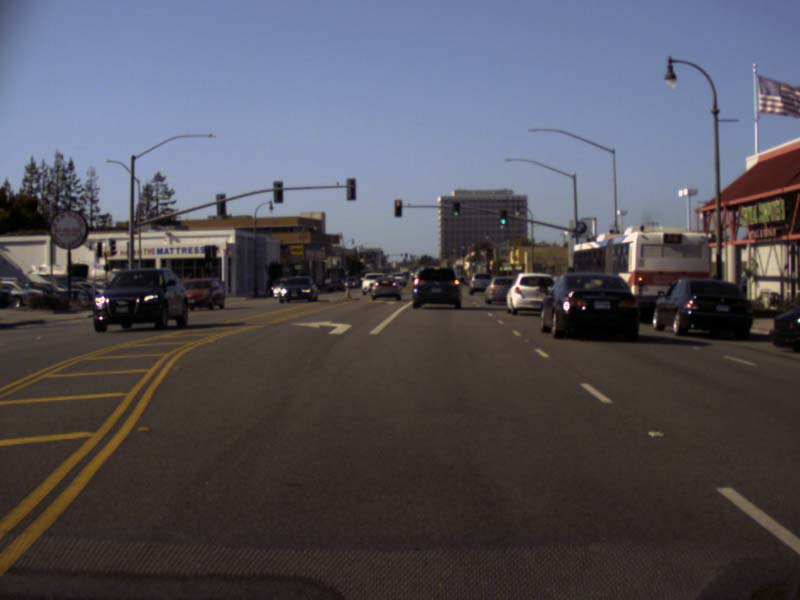Green: (499, 210, 507, 224), (453, 201, 460, 215)
Red: (394, 200, 401, 216)
